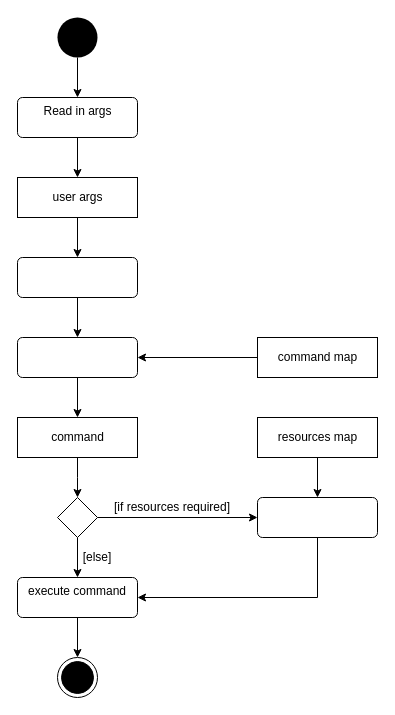
This 395x715 diagram has some shape labels left out. Here are the shapes that lost their labels. From the top down, the centre of each, then its label:
point (77, 277): parse args
point (77, 357): map args to commands
point (317, 517): pull resources
